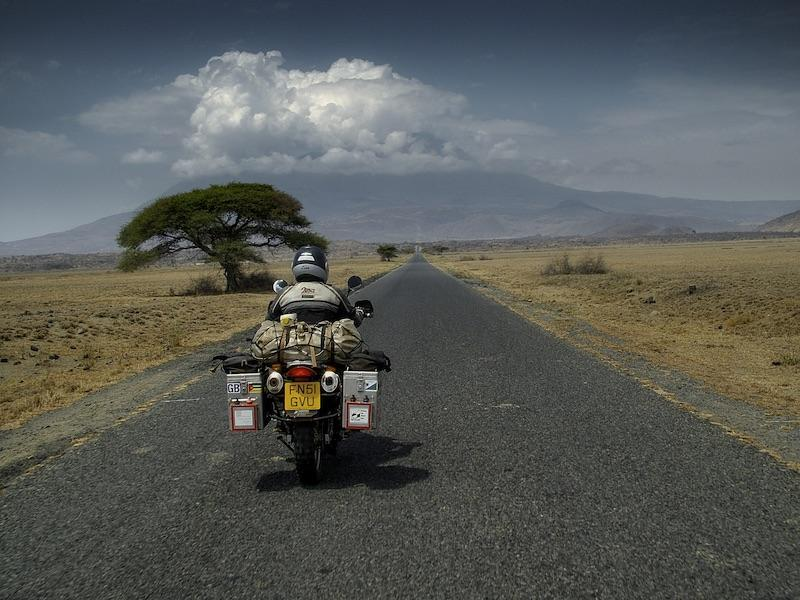MotorCycle: (225, 324, 381, 490)
